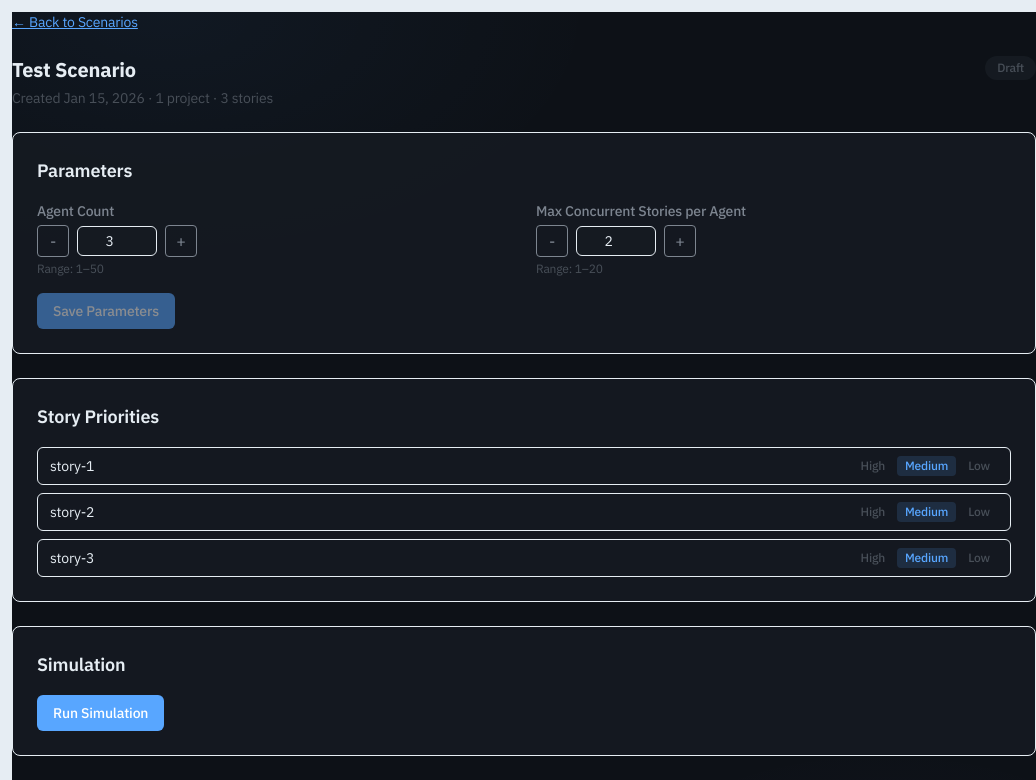
Test: ScenarioDetail › Run Simulation button is disabled when parameters have unsaved changes
# Change agent count to create unsaved diff
Click the button "+" below "Agent Count" at x=181, y=241, box [165,225,197,257]
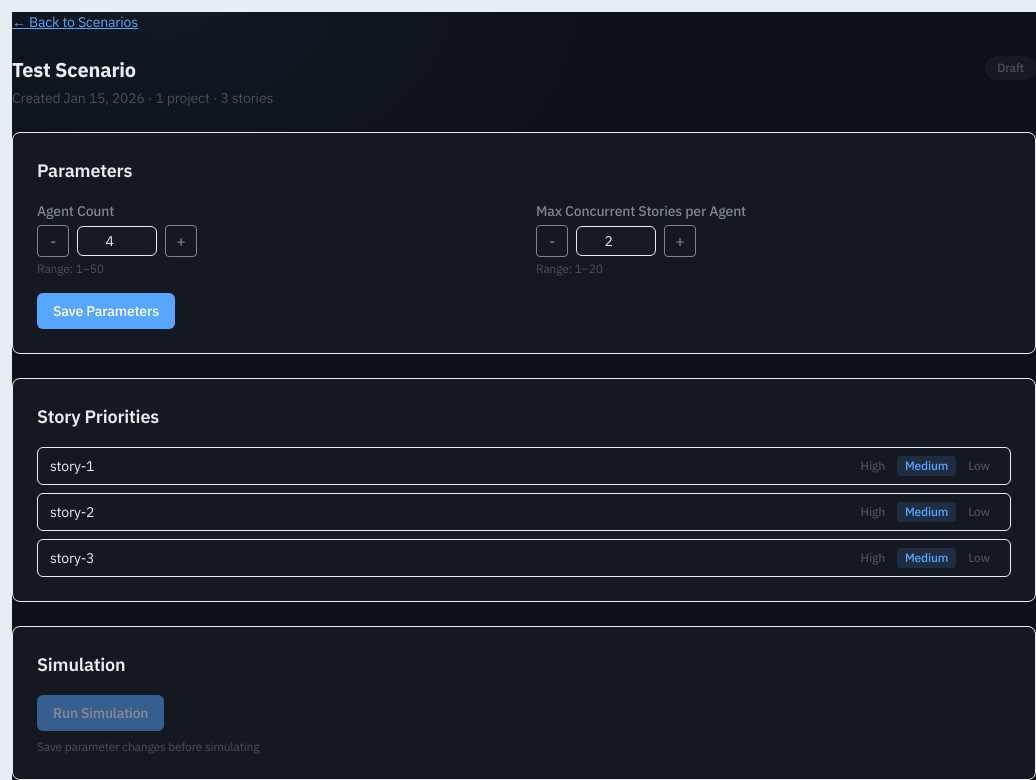
Result: the button "Run Simulation" is disabled at [37,695,164,731]
